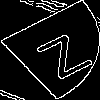Z: (25, 25, 96, 80)
